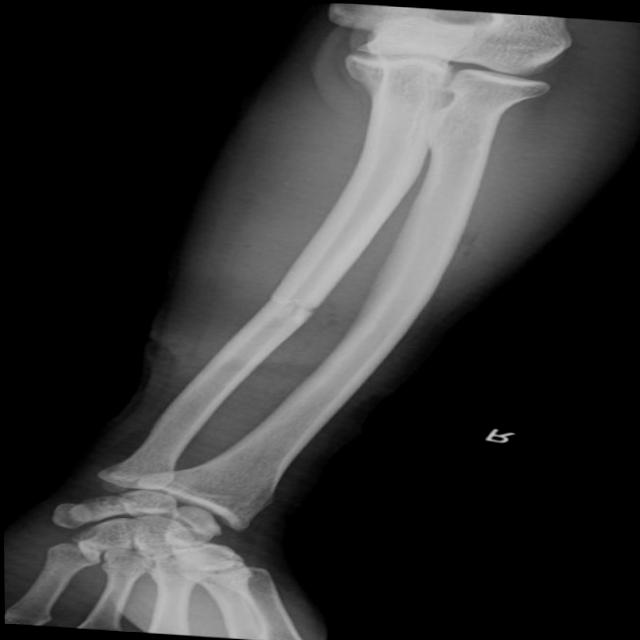Transverse Displaced: (234, 284, 345, 335)
